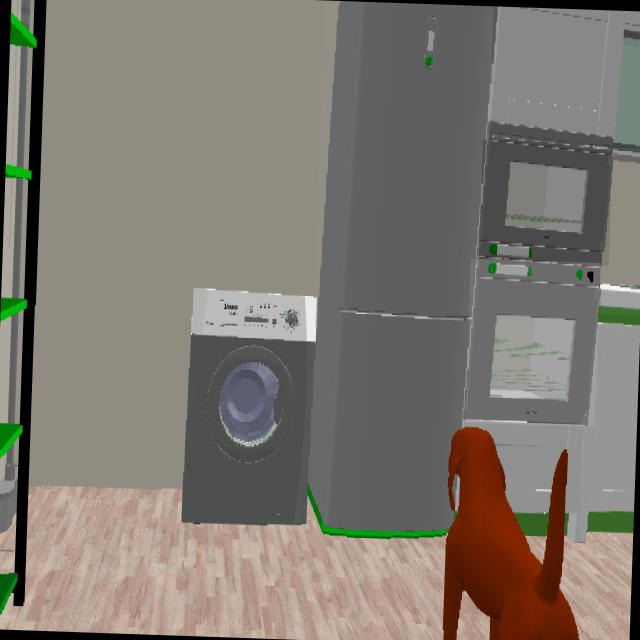cabinet: (490, 6, 640, 148), (580, 287, 640, 536)
countertop: (601, 284, 640, 315)
fridge: (308, 1, 498, 541)
microwave: (479, 142, 611, 265)
oven: (466, 259, 600, 425)
shelf: (0, 12, 39, 604)
